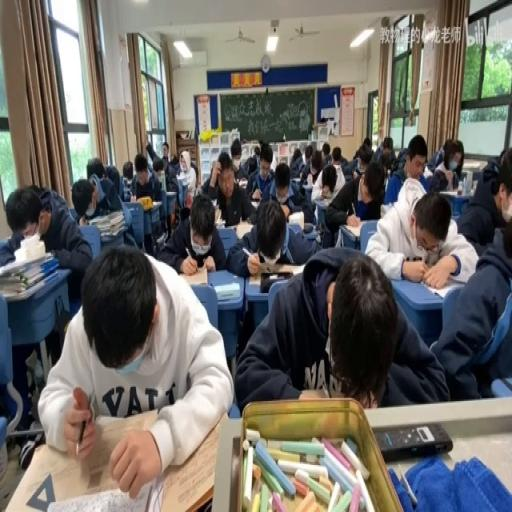calculator: (90, 208, 126, 238), (423, 279, 462, 300), (177, 263, 208, 285), (213, 282, 241, 300), (234, 219, 254, 240), (343, 219, 365, 238), (286, 210, 304, 229), (438, 188, 466, 196), (334, 228, 344, 248), (380, 200, 393, 214), (312, 195, 328, 206), (213, 205, 222, 222), (302, 220, 314, 232), (237, 176, 248, 186), (150, 198, 162, 206), (176, 174, 188, 182), (249, 199, 258, 208), (290, 176, 300, 184), (306, 174, 312, 186), (211, 196, 218, 206)
paper: (40, 240, 234, 496), (232, 244, 440, 412), (365, 178, 477, 287), (3, 180, 93, 298), (226, 195, 318, 276), (455, 148, 512, 250), (158, 190, 224, 274), (322, 158, 380, 244), (205, 150, 256, 224), (382, 134, 430, 204), (130, 151, 164, 239), (426, 138, 462, 192), (70, 178, 97, 224), (161, 155, 179, 208), (344, 141, 367, 179), (298, 144, 320, 182), (330, 140, 348, 170), (103, 164, 120, 192), (482, 156, 499, 182), (321, 165, 336, 193), (86, 158, 104, 179), (122, 160, 134, 190), (418, 169, 432, 192), (266, 142, 277, 171), (190, 159, 198, 191), (246, 152, 258, 172), (230, 140, 242, 160), (153, 160, 164, 178), (322, 140, 330, 164), (362, 135, 372, 154), (498, 146, 507, 166), (434, 146, 443, 166), (382, 138, 392, 154), (454, 160, 462, 178), (146, 142, 152, 156), (253, 144, 259, 156), (162, 148, 168, 158)
person: (374, 422, 451, 461), (260, 270, 295, 292)
